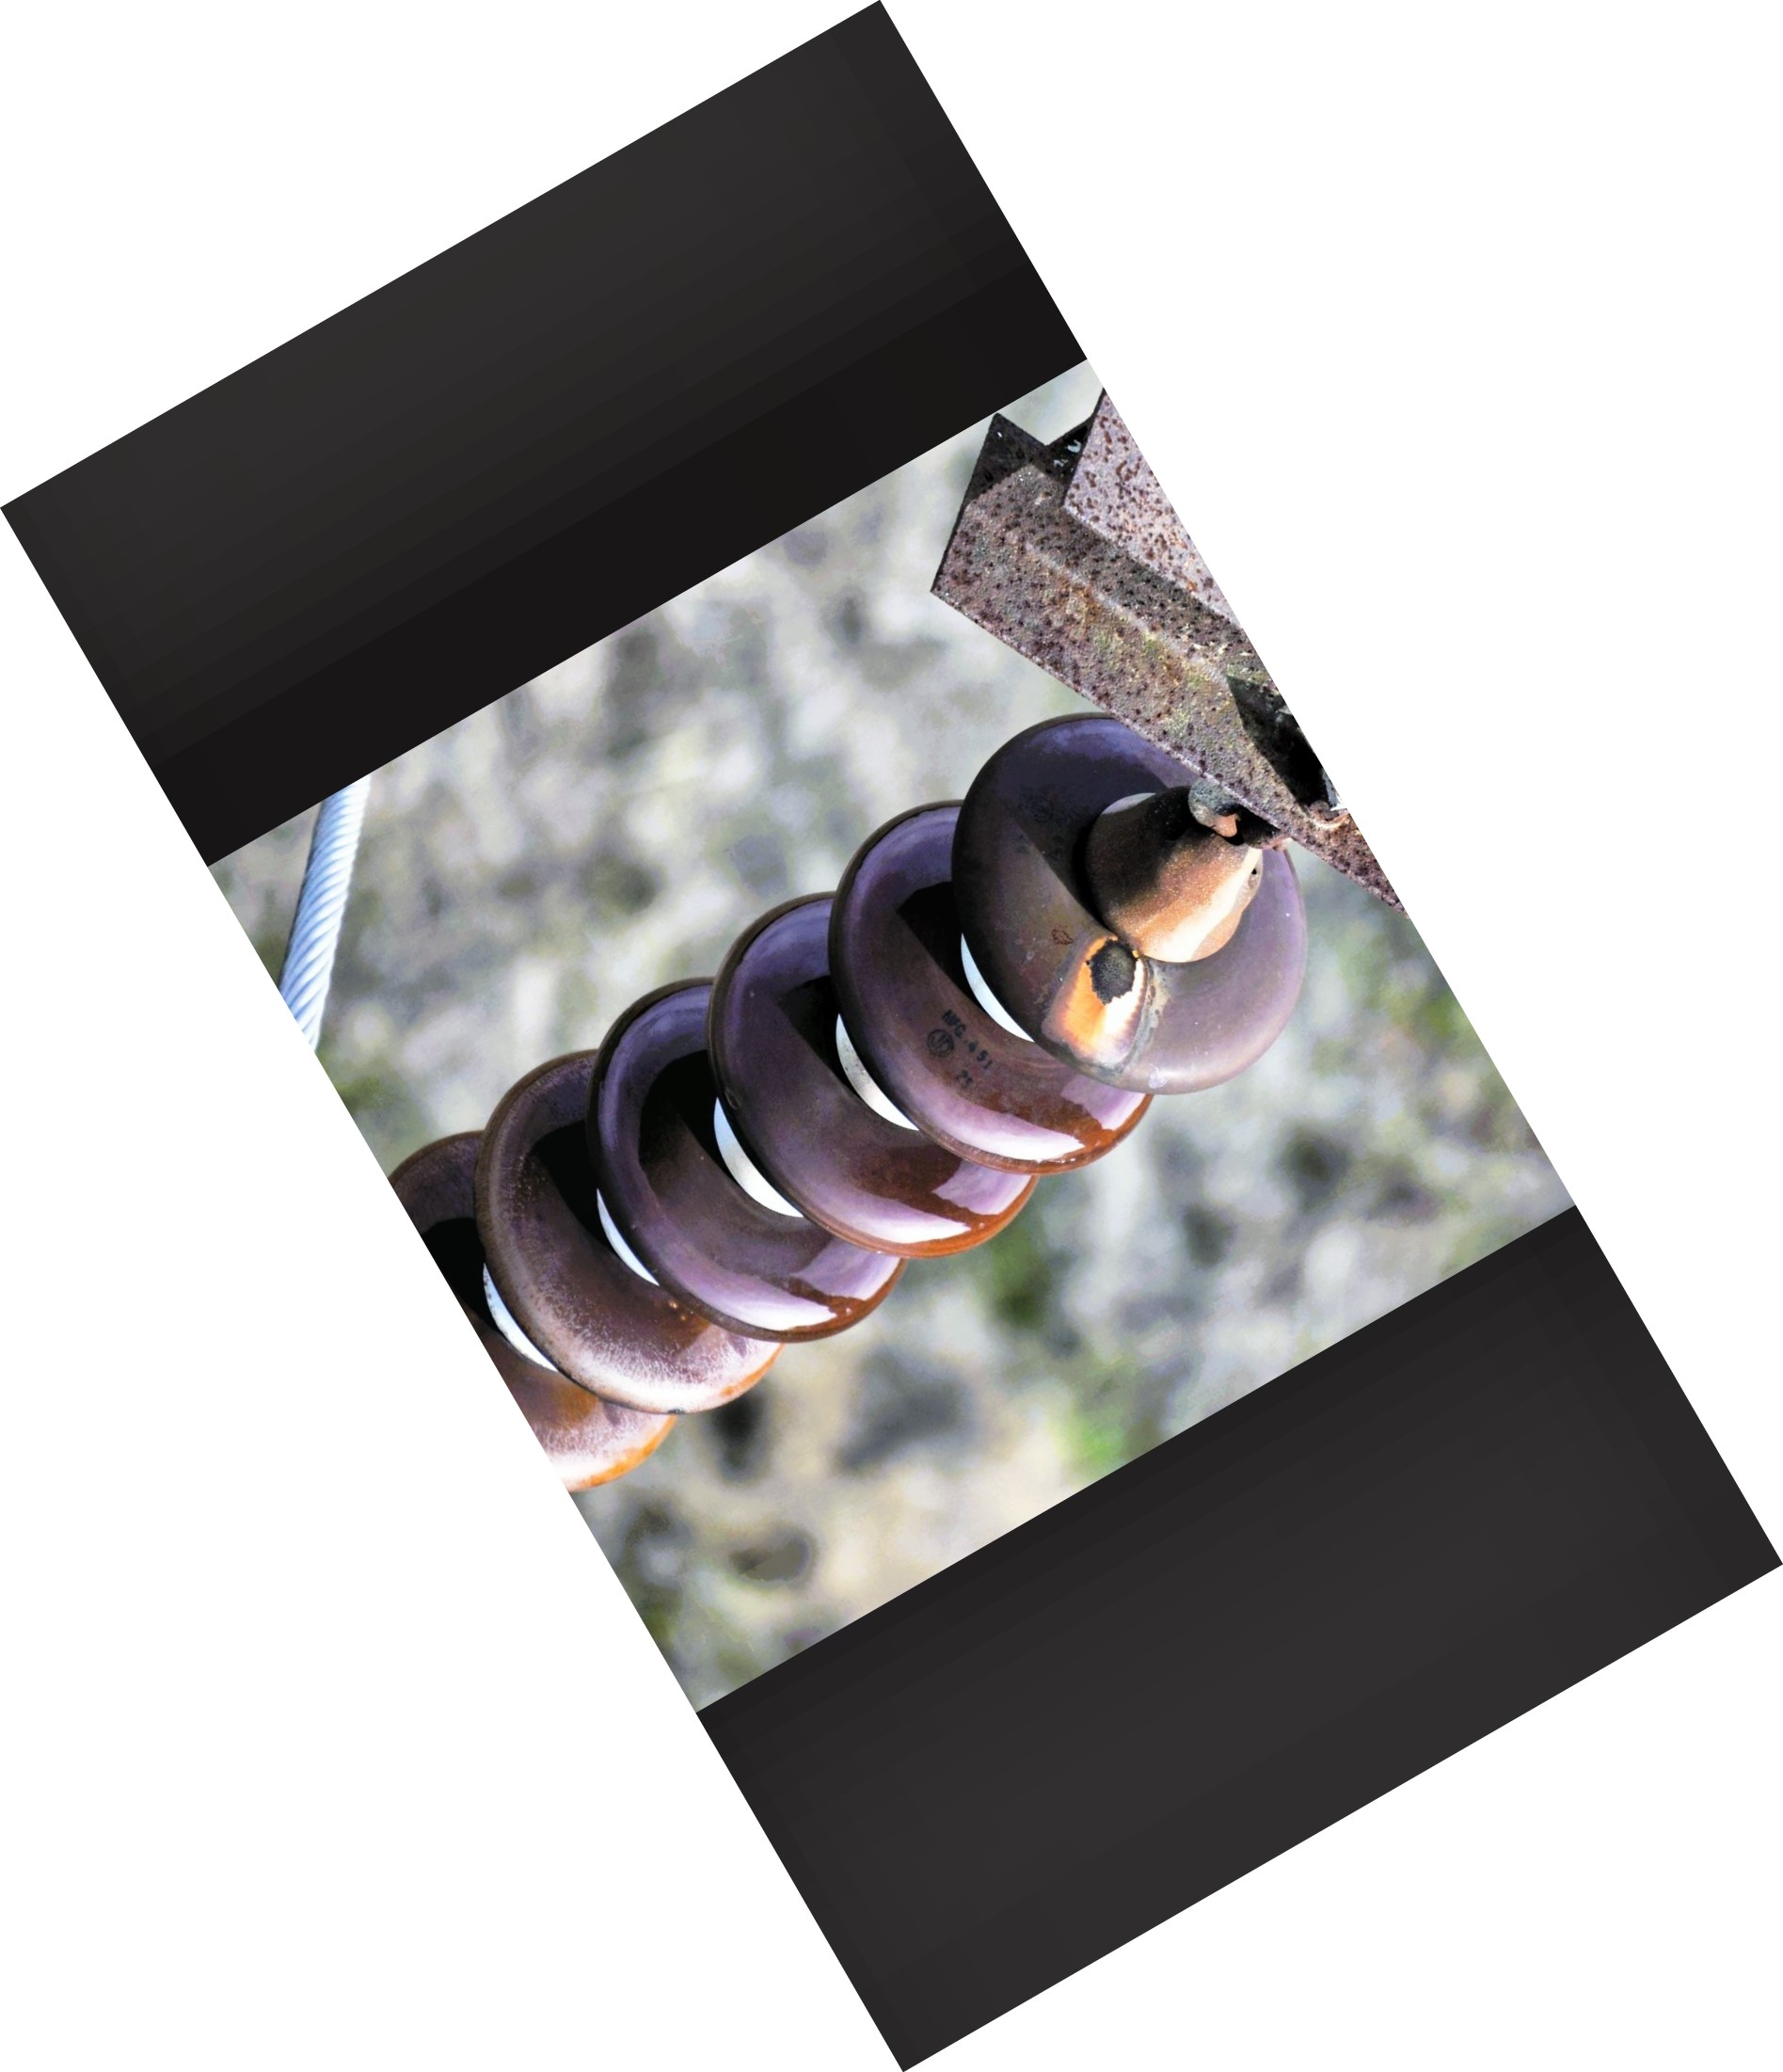Insulator flashover: (936, 696, 1334, 1106)
